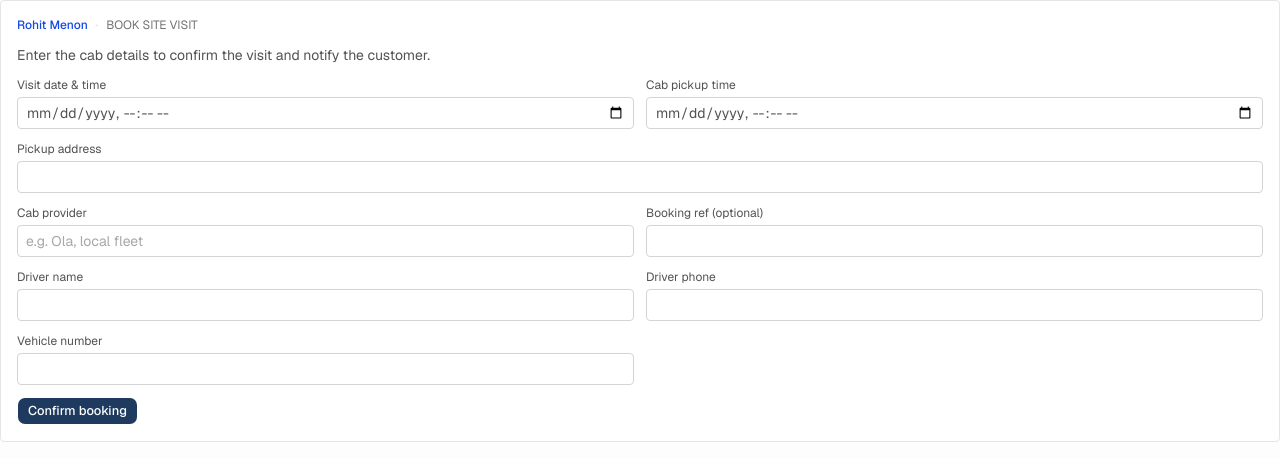
<SiteVisitBookingCard> › blocks submit with a validation error when fields are empty
The width and height of the screenshot is (1280, 459).
Step 1. Click the button with test id "site-visit-booking-submit-q-1" → (77, 411), box [17,397,138,425]
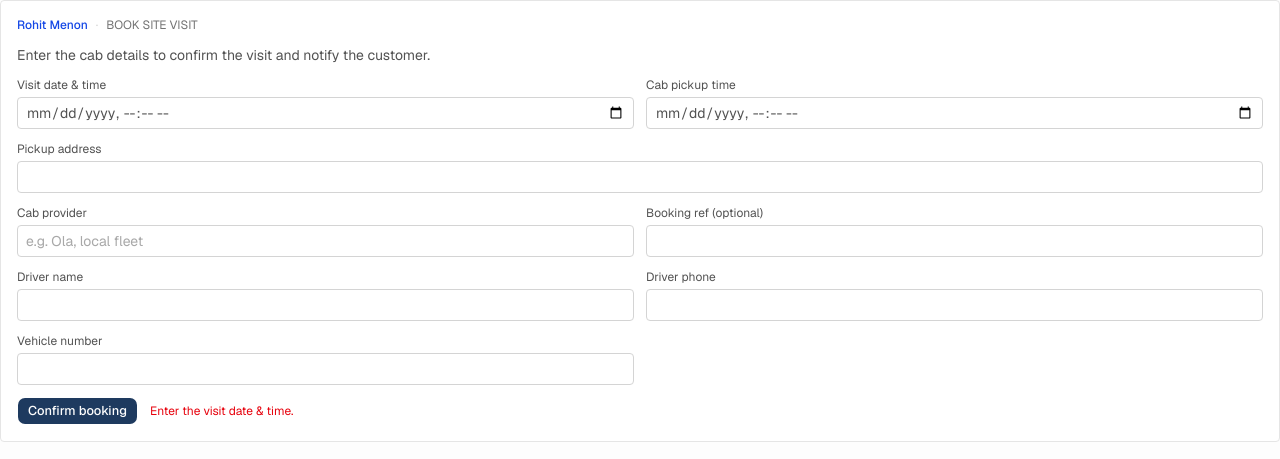
Expected: the message with test id "site-visit-booking-error-q-1" shows "visit date", [150,403,294,419]
